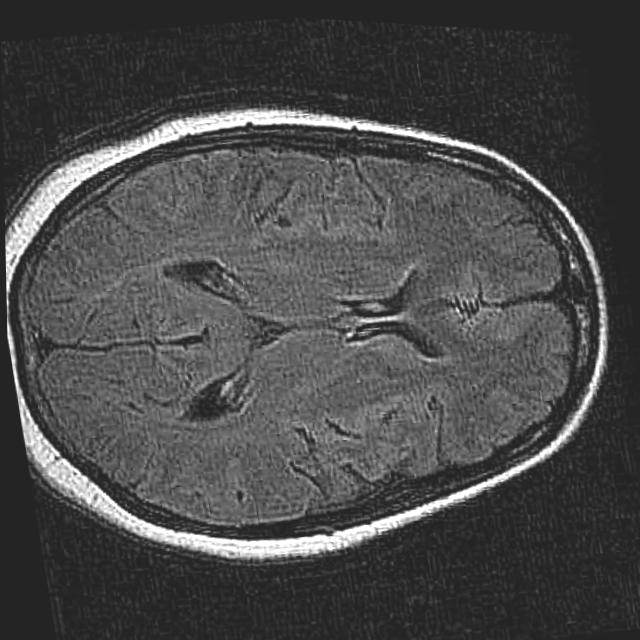NoTumor: (1, 41, 640, 624)
